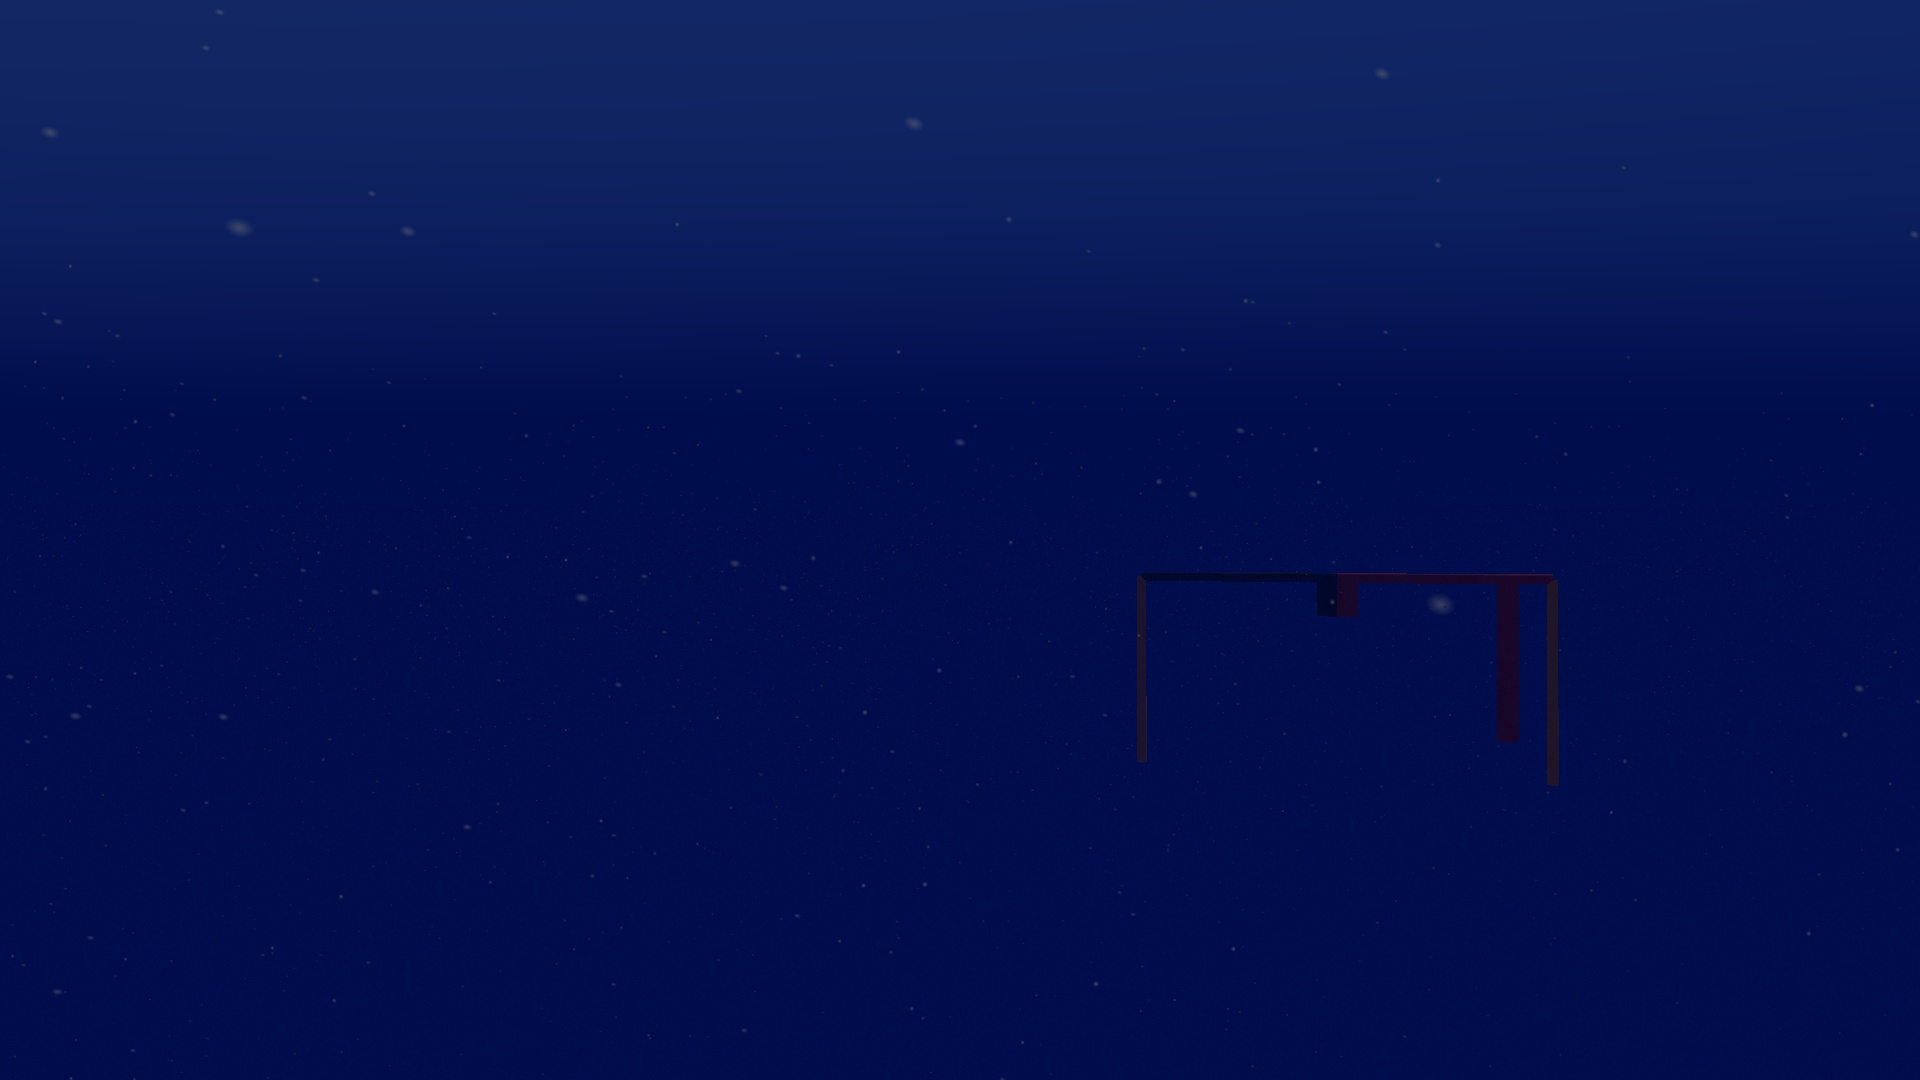Gate: (1127, 563, 1567, 800)
